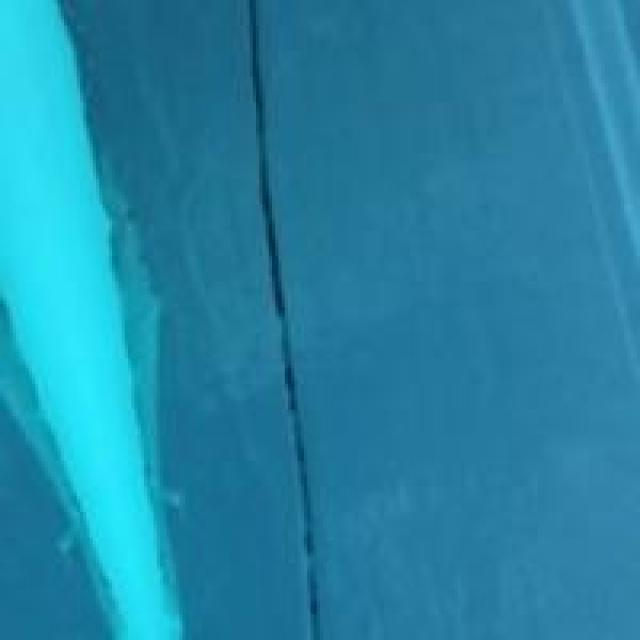crack: (185, 0, 378, 637)
